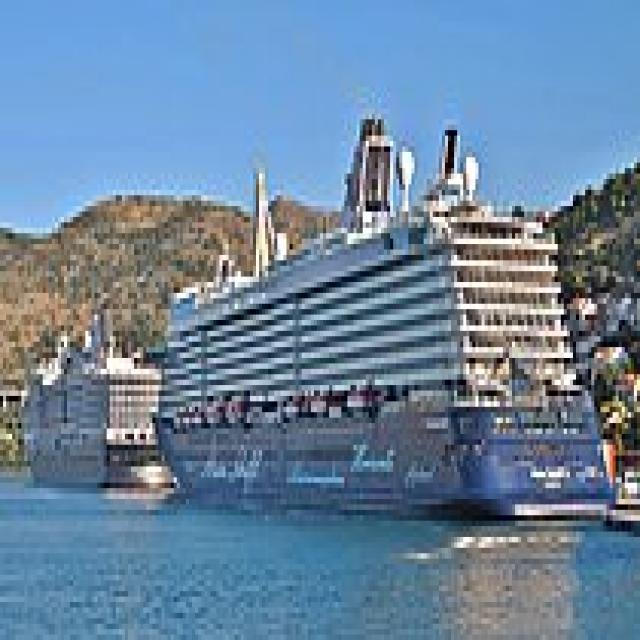Ship: (153, 109, 623, 549), (19, 300, 175, 506)
